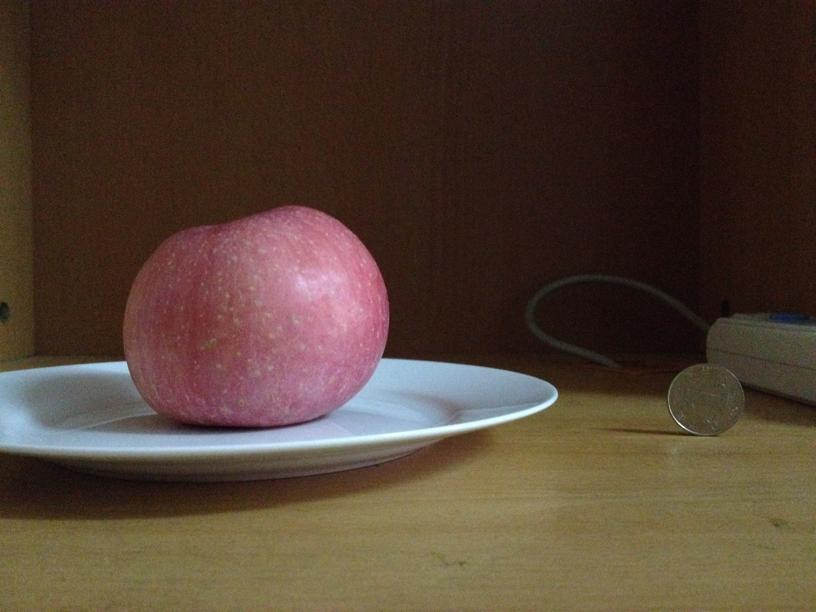apple: (123, 201, 391, 428)
coin: (670, 362, 743, 434)
